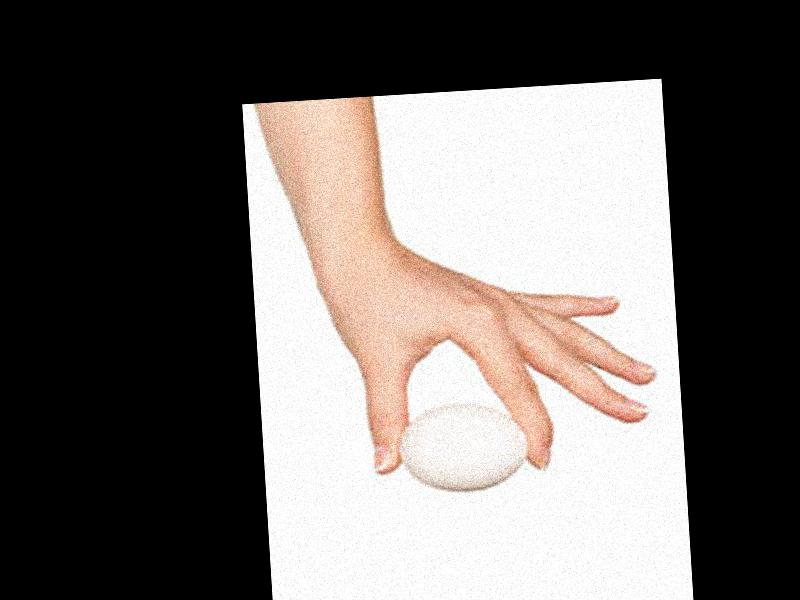Eggs: (397, 399, 531, 497)
